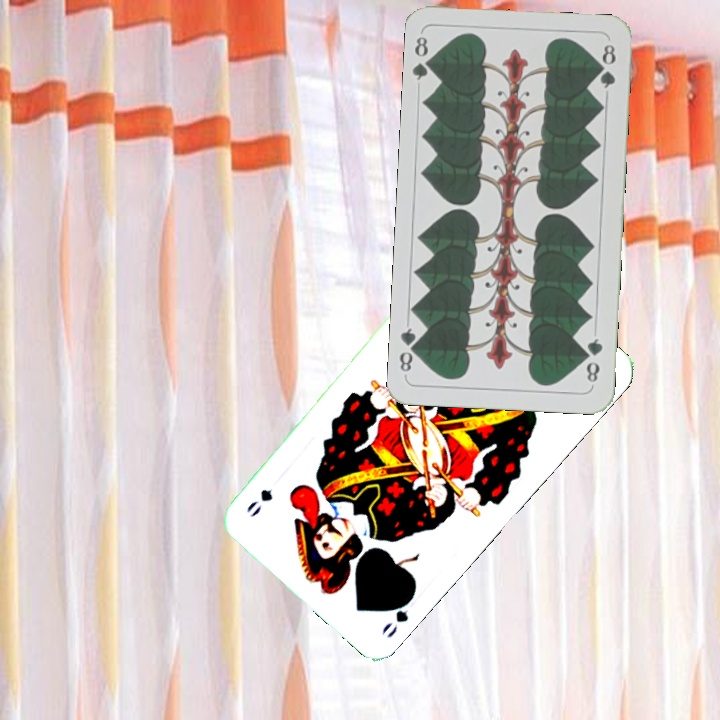G8: (409, 33, 437, 83), (581, 334, 606, 388)
GO: (377, 588, 418, 641)
